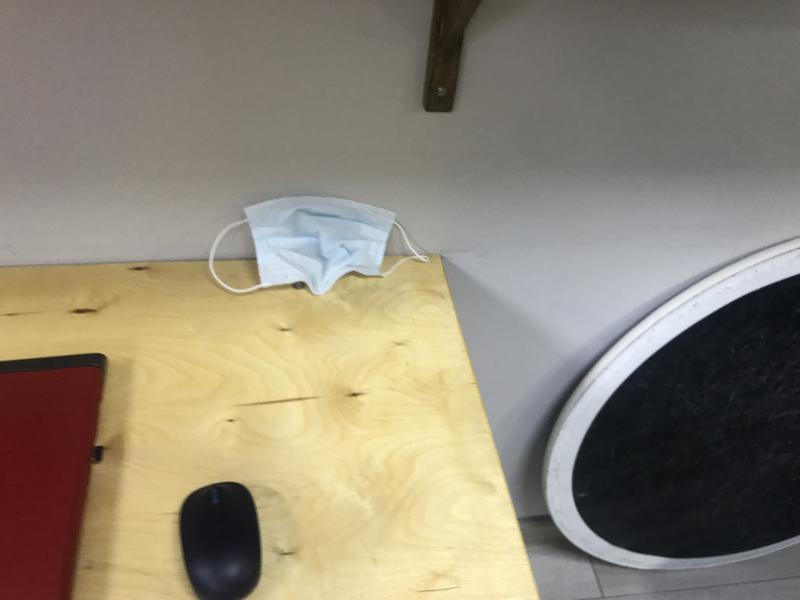medical_mask: (209, 197, 429, 297)
